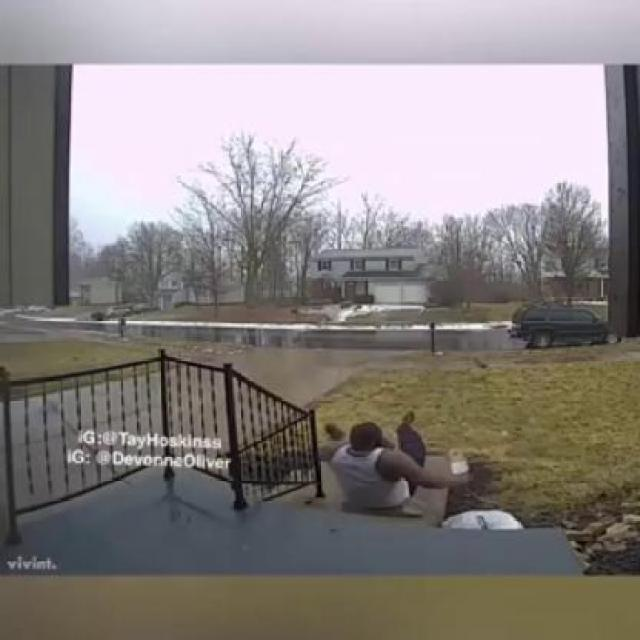fall: (338, 402, 478, 507)
